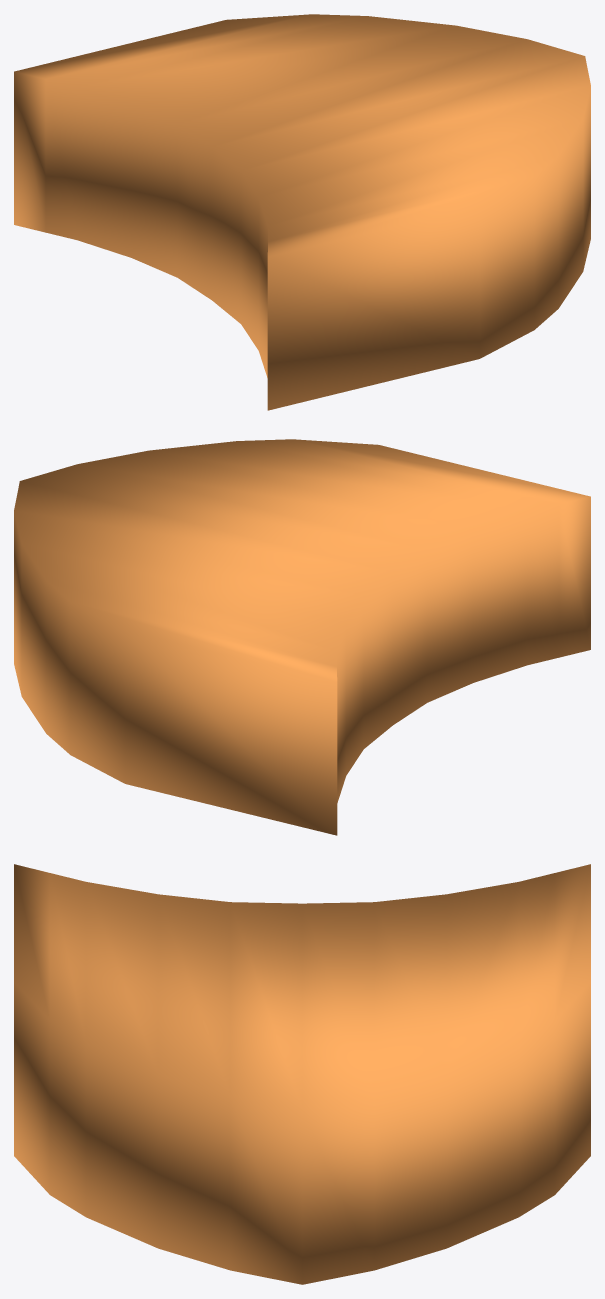
The picture shows the model from 3 angles, top to bottom: view 1: azimuth 30°, elevation 25°; view 2: azimuth 150°, elevation 25°; view 3: azimuth 270°, elevation 25°; orthographic projection. The views are drawn at different scales.
Visible parts, largest first — view 1: 5; view 2: 5; view 3: 5.
Part boxes in pixels (x1,y1,x2,y2): 5: (14,14,590,410); 5: (14,439,590,835); 5: (14,864,590,1284).
Bounding box in the file's own units: 3.03 × 1 × 3.
